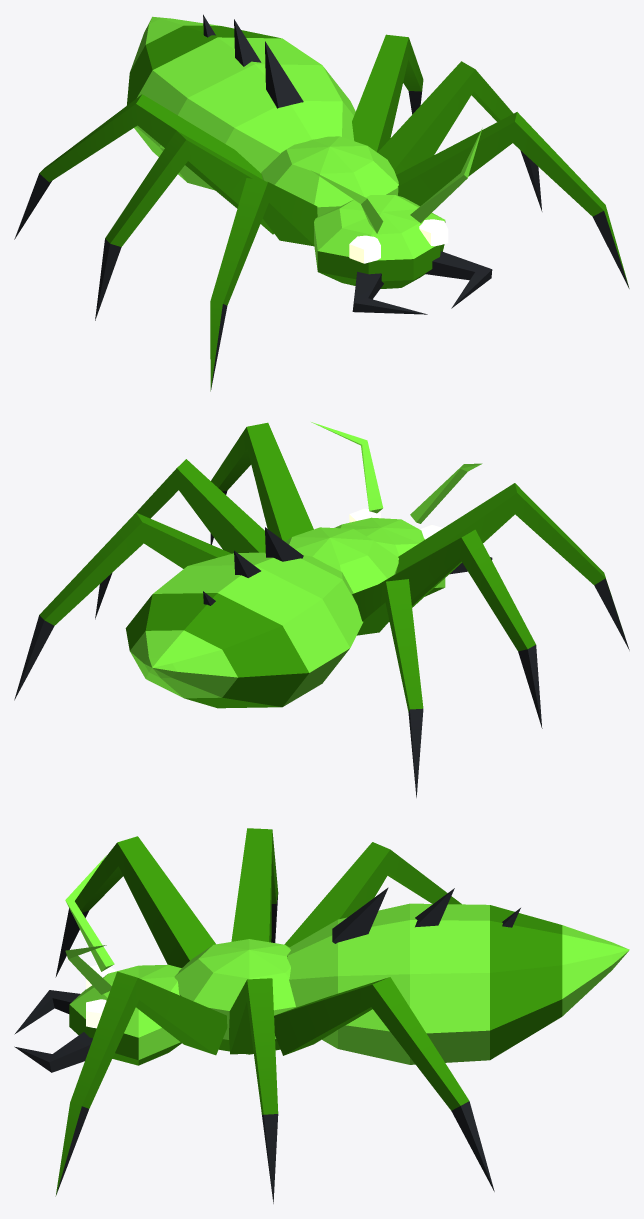
The model's file is skitterling.glb.
The picture shows the model from 3 angles, top to bottom: view 1: azimuth 30°, elevation 25°; view 2: azimuth 150°, elevation 25°; view 3: azimuth 270°, elevation 25°; orthographic projection. The views are drawn at different scales.
Visible parts, largest first — view 1: body, leg_L1, leg_R1, leg_L2, leg_R2, leg_R3, leg_L3, jaw_L, jaw_R, sway_antenna_L, sway_antenna_R; view 2: body, leg_L3, leg_R1, leg_R2, leg_L1, leg_L2, leg_R3, sway_antenna_L, sway_antenna_R; view 3: body, leg_L3, leg_L1, leg_R1, leg_L2, leg_R3, leg_R2, jaw_L, sway_antenna_R, jaw_R, sway_antenna_L.
Boxes of the visible parts, box(x1,y1,x2,y2) form: body: box(127, 14, 448, 288); leg_L1: box(396, 112, 629, 288); leg_R1: box(210, 178, 317, 391); leg_L2: box(377, 61, 542, 211); leg_R2: box(95, 131, 273, 320); leg_R3: box(14, 94, 262, 239); leg_L3: box(352, 34, 423, 152); jaw_L: box(425, 251, 492, 308); jaw_R: box(352, 271, 427, 314); sway_antenna_L: box(410, 128, 482, 223); sway_antenna_R: box(311, 170, 383, 233); body: box(125, 508, 445, 708); leg_L3: box(14, 512, 231, 700); leg_R1: box(396, 483, 629, 650); leg_R2: box(379, 529, 542, 728); leg_L1: box(210, 422, 313, 544); leg_L2: box(95, 459, 265, 619); leg_R3: box(352, 579, 423, 797); sway_antenna_L: box(311, 422, 383, 513); sway_antenna_R: box(410, 463, 482, 523); body: box(69, 887, 629, 1065); leg_L3: box(274, 977, 494, 1191); leg_L1: box(55, 971, 227, 1196); leg_R1: box(55, 836, 215, 977); leg_L2: box(229, 978, 278, 1203); leg_R3: box(284, 842, 461, 947); leg_R2: box(231, 828, 278, 942); jaw_L: box(14, 1032, 92, 1072); sway_antenna_R: box(65, 855, 114, 971); jaw_R: box(14, 990, 80, 1034); sway_antenna_L: box(65, 945, 111, 994).
Bounding box in the file's own units: 8 × 3.2 × 8.9.
